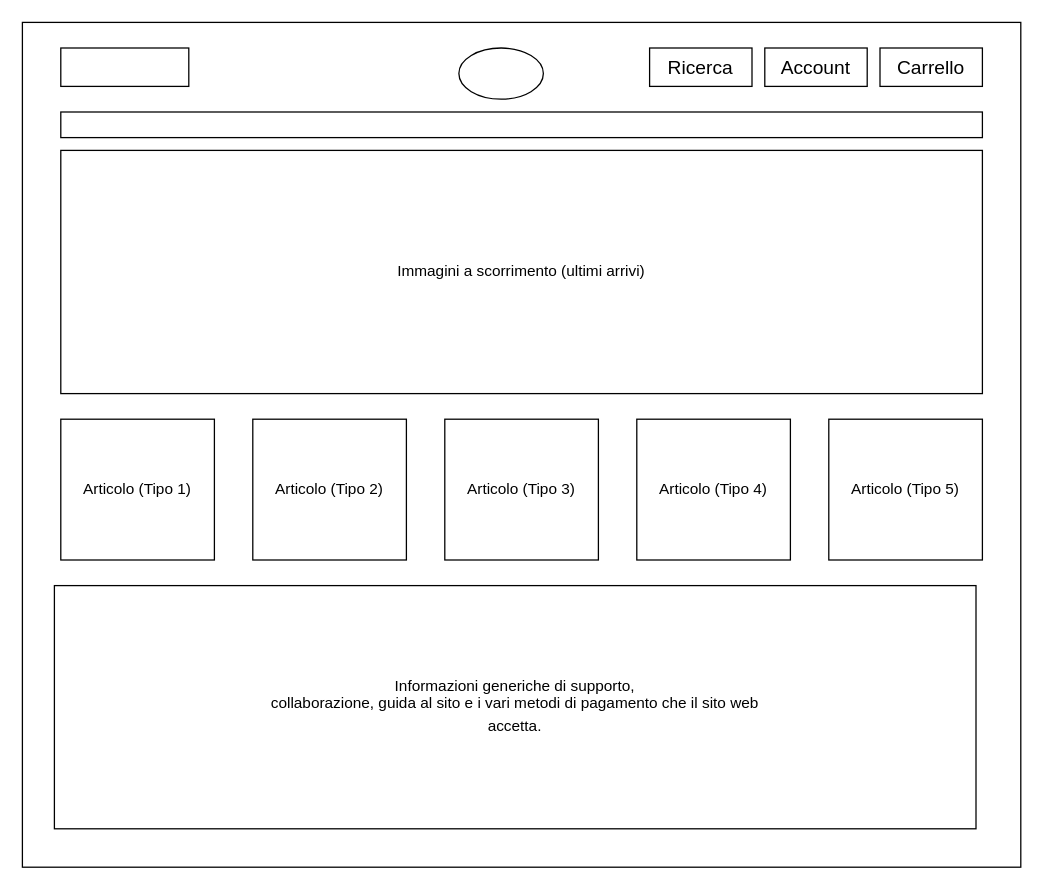
Some shapes in this 1043 by 890 pixel diagram are drawn without their labels. The box of each missing label's shape, as (x1, y1, x2, y2) in pixels:
Menù navigazionale: (60, 111, 982, 138)
Tøj: (458, 47, 543, 99)
Uomo/Donna: (60, 47, 189, 86)
